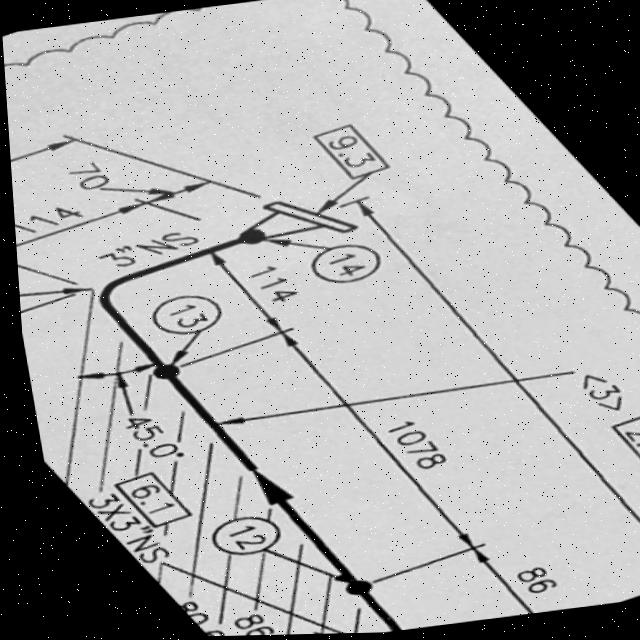Item number: (303, 122, 394, 186), (598, 414, 640, 474)
Measrement: (365, 214, 640, 552), (262, 322, 513, 562), (77, 475, 219, 615), (202, 246, 298, 345), (11, 189, 164, 248), (56, 160, 216, 206), (84, 229, 207, 268), (213, 608, 271, 637)
Pipeline: (87, 262, 401, 633)
Symbol: (225, 188, 365, 255), (227, 464, 296, 516)
Weld number: (300, 238, 383, 289), (140, 290, 224, 340), (199, 512, 277, 561)
